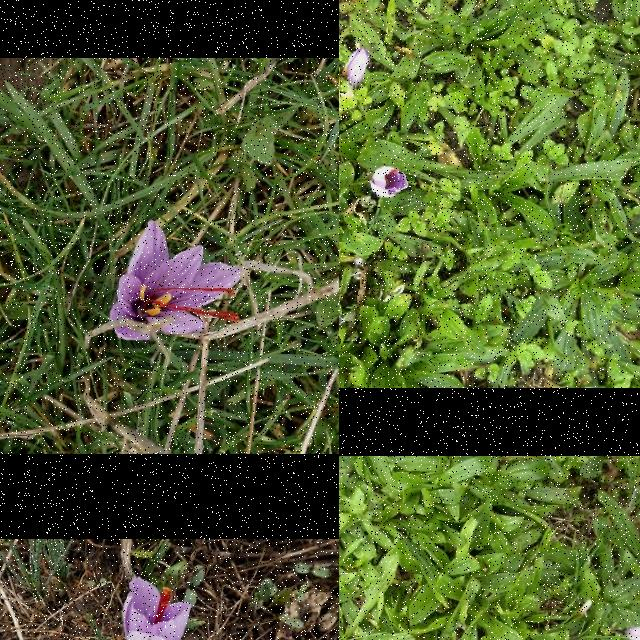flower: (109, 220, 241, 342), (123, 577, 191, 640), (372, 166, 410, 198), (344, 46, 370, 86), (621, 626, 640, 640)
